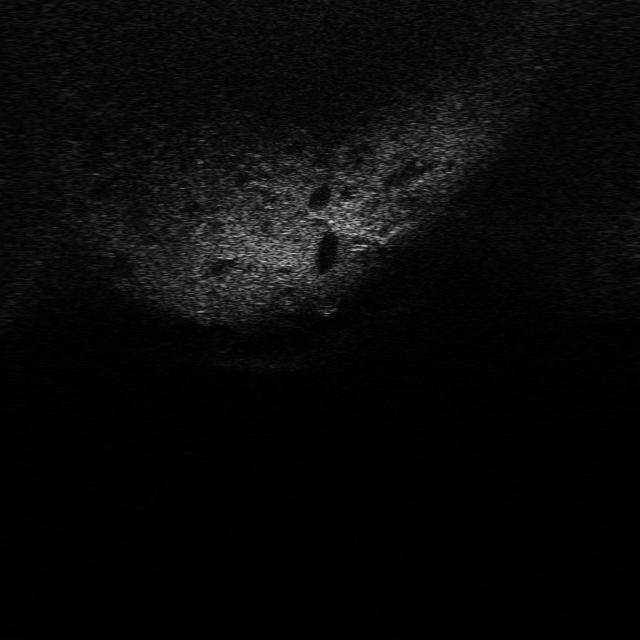ball: (307, 277, 343, 312)
